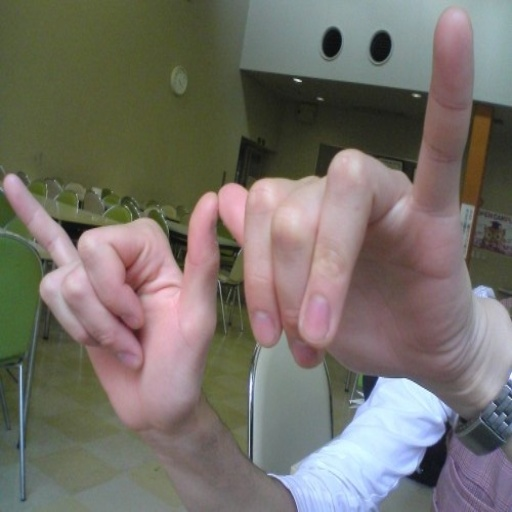hand: (217, 4, 476, 380), (1, 169, 220, 431)
